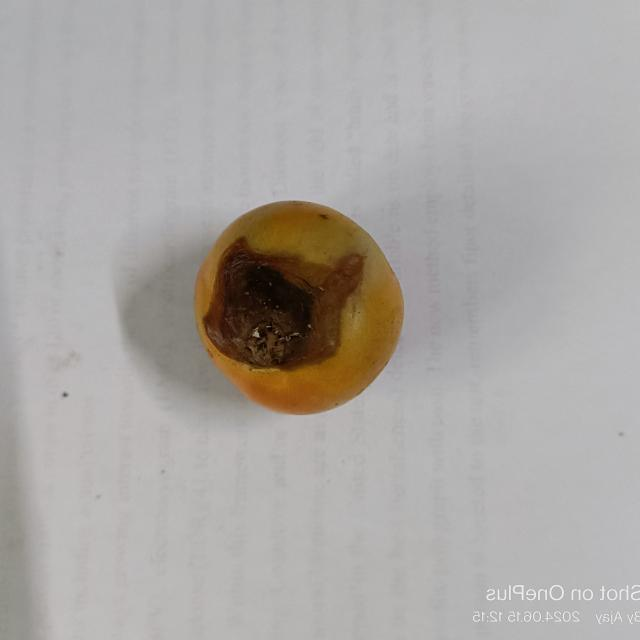Anthrocnose: (205, 237, 372, 373)
